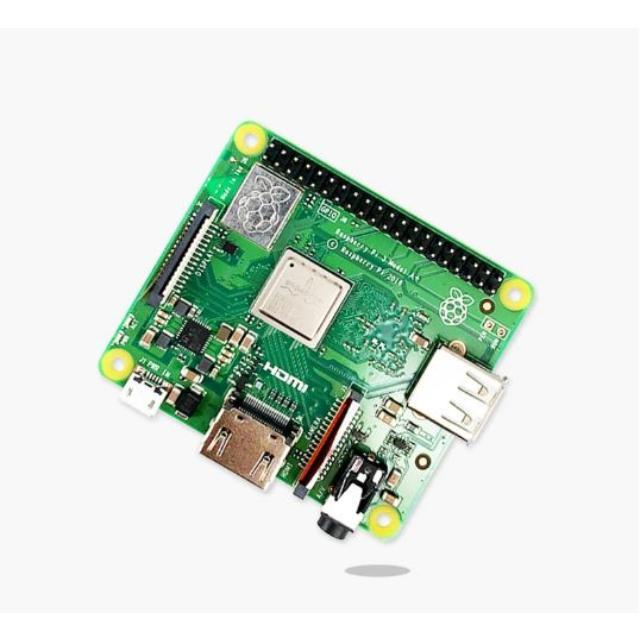Raspberry-Pi-3-A-: (101, 123, 533, 539)
